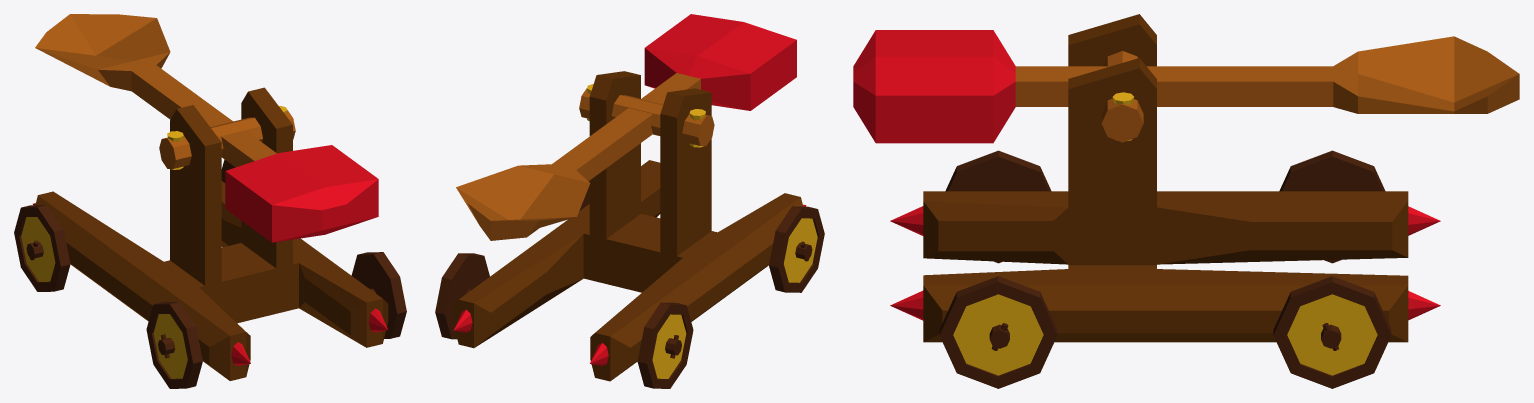
Rendered from RedCatapult.fbx.
3 renders of one model, left to right at view 1: azimuth 30°, elevation 25°; view 2: azimuth 150°, elevation 25°; view 3: azimuth 270°, elevation 25°, orthographic. The views are drawn at different scales.
Visible parts, largest first — view 1: Catapult Base, Cylinder.001, Cylinder, Cone; view 2: Catapult Base, Cylinder.001, Cylinder, Cone; view 3: Catapult Base, Cylinder.001, Cylinder, Cone.
Boxes of the visible parts, x1,y1,x2,y2 form: Catapult Base: (35,87,388,380); Cylinder.001: (35,14,378,242); Cylinder: (14,159,406,388); Cone: (33,203,387,365); Catapult Base: (453,71,803,381); Cylinder.001: (456,14,796,240); Cylinder: (435,181,824,388); Cone: (453,204,806,365); Catapult Base: (923,14,1408,342); Cylinder.001: (853,30,1519,143); Cylinder: (939,150,1391,388); Cone: (890,206,1440,320).
Bounding box in the file's own units: 305 × 285 × 611.
